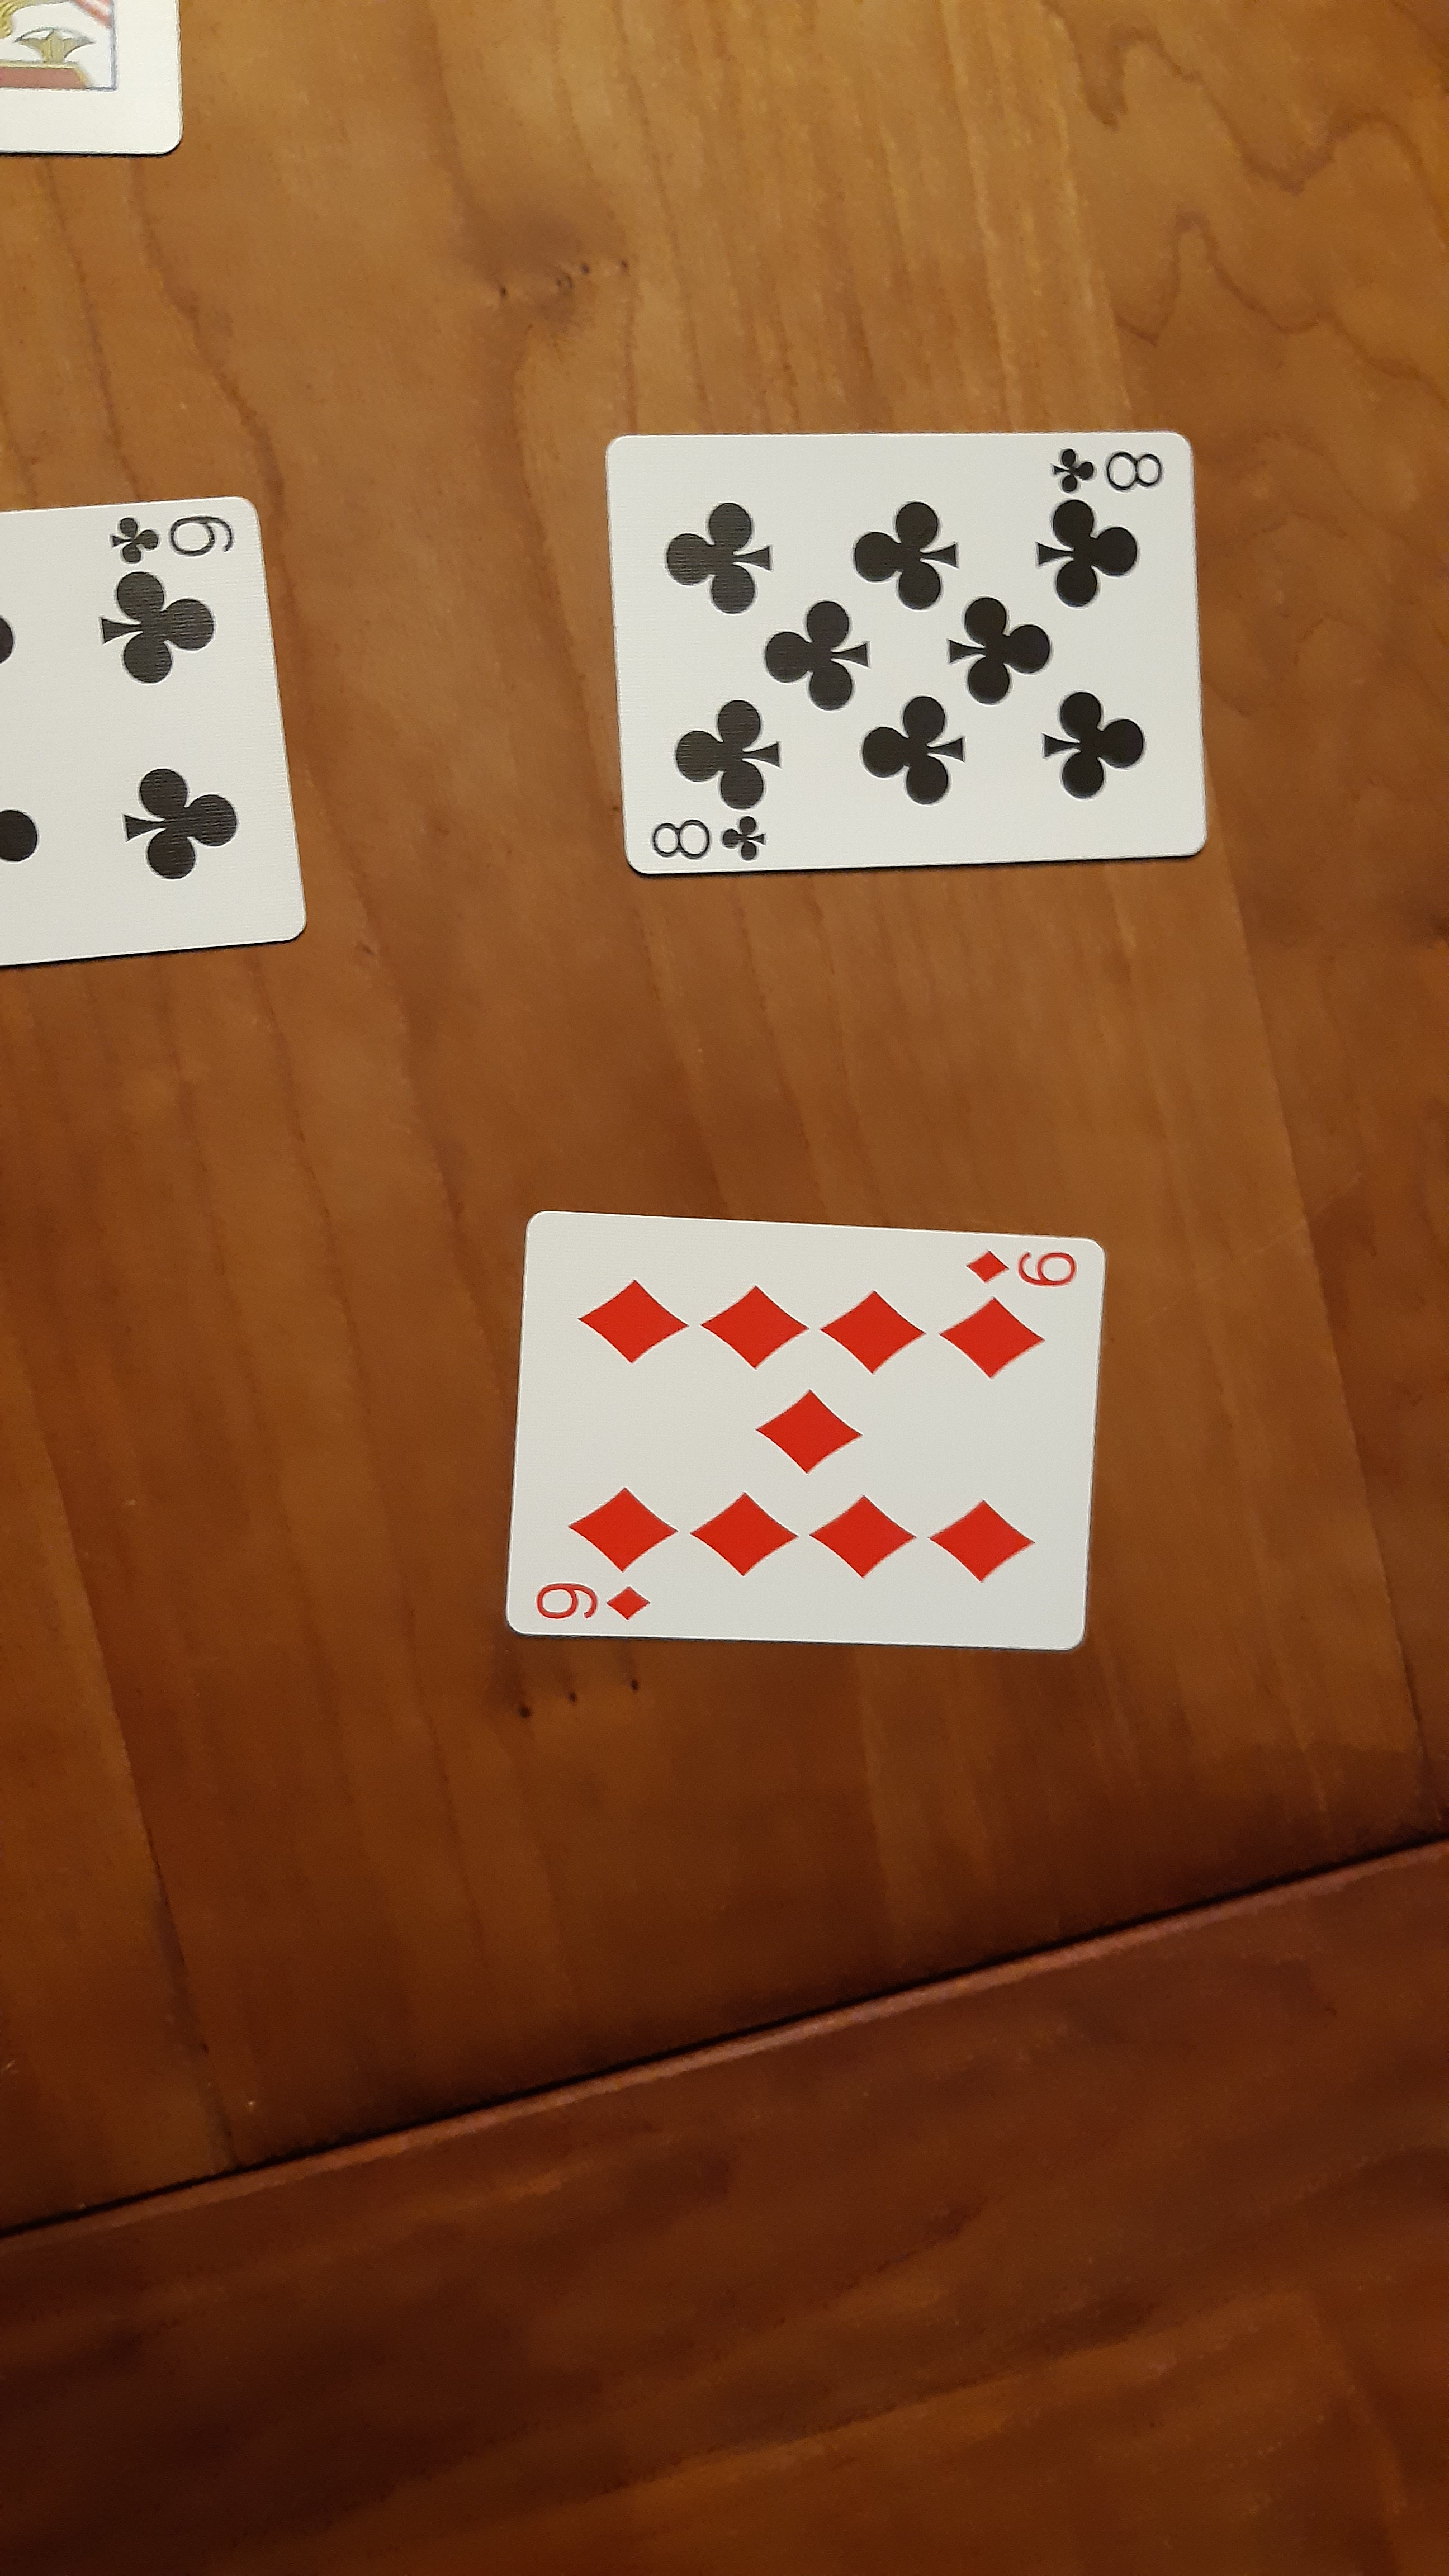Black_Club_6: (2, 510, 272, 952)
Black_Club_8: (635, 809, 775, 872), (1037, 435, 1175, 499)
Red_Diamond_9: (529, 1238, 1088, 1631)
